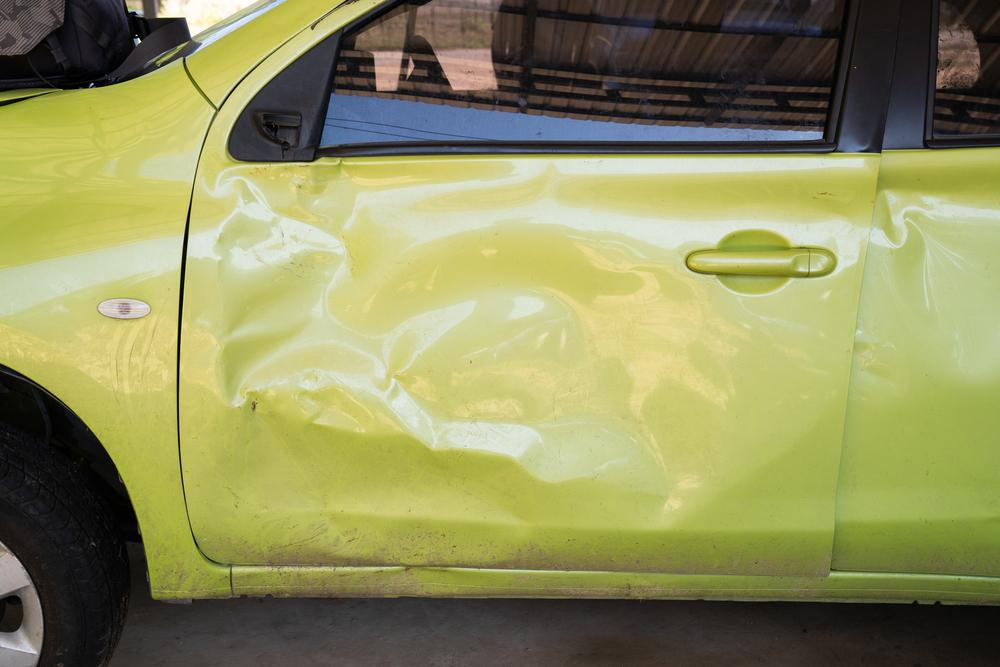dent: (210, 158, 825, 564), (872, 170, 1000, 386)
